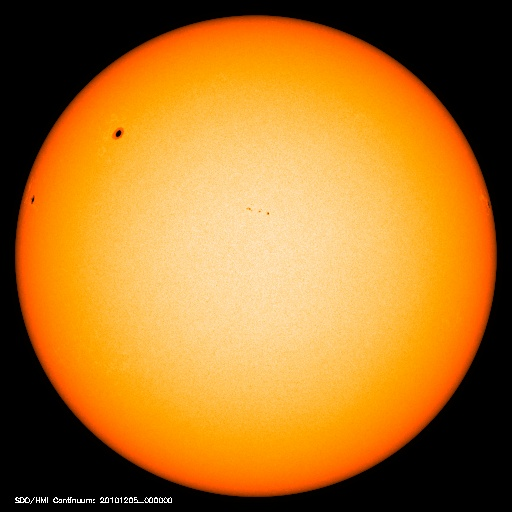sunspot: (100, 120, 137, 146), (237, 198, 277, 221), (20, 188, 43, 211), (477, 192, 500, 215)
